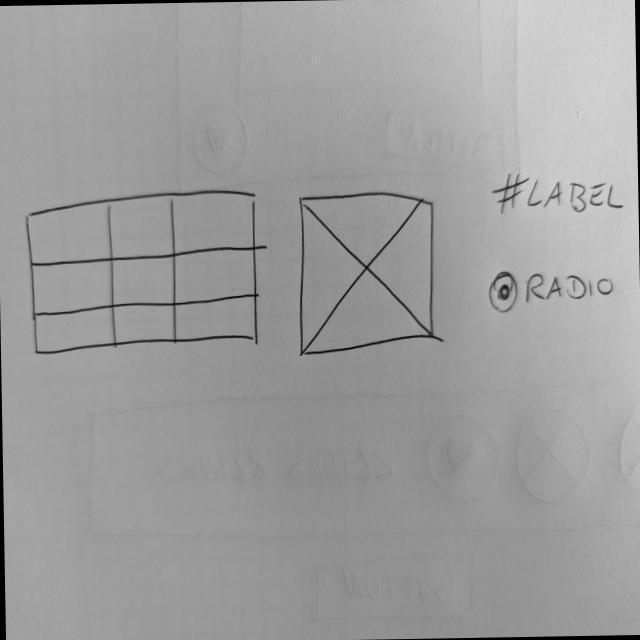image: (295, 187, 440, 360)
label: (493, 166, 627, 221)
radio: (489, 267, 521, 316)
table: (26, 184, 265, 361)
